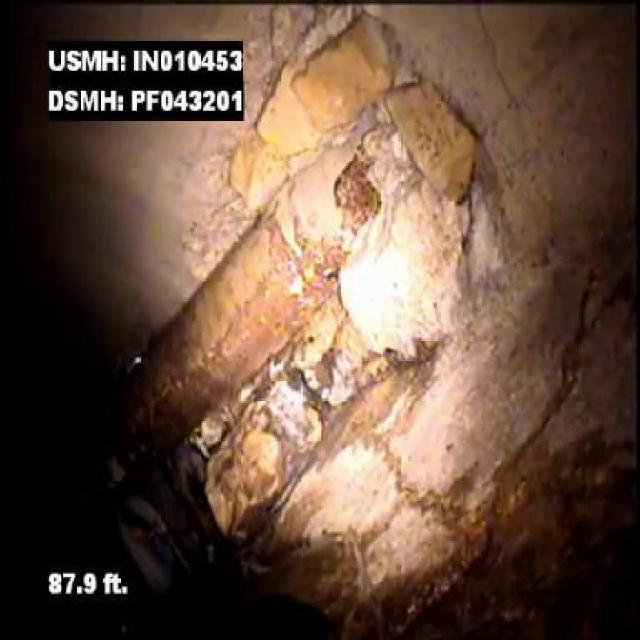Utility intrusion: (96, 128, 407, 488)
